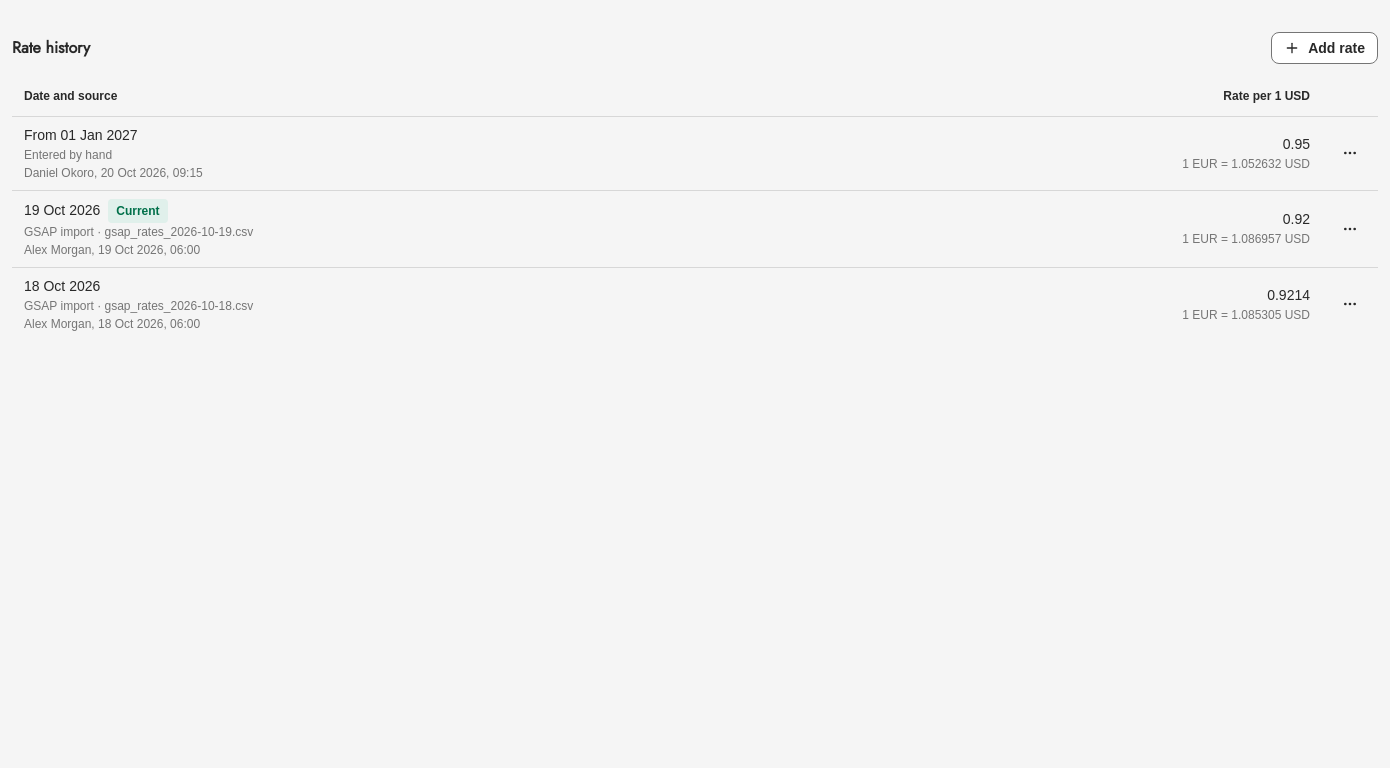
it: RateHistorySection (016 FR-001, FR-003) › moves a rate to the recycle bin with Undo
This screenshot has width=1390, height=768.
Check: the table is shown, box [12, 76, 1378, 340]
Step 1. Click the button named "Actions for the rate of 18 Oct 2026" → (1350, 304), box [1334, 288, 1366, 320]
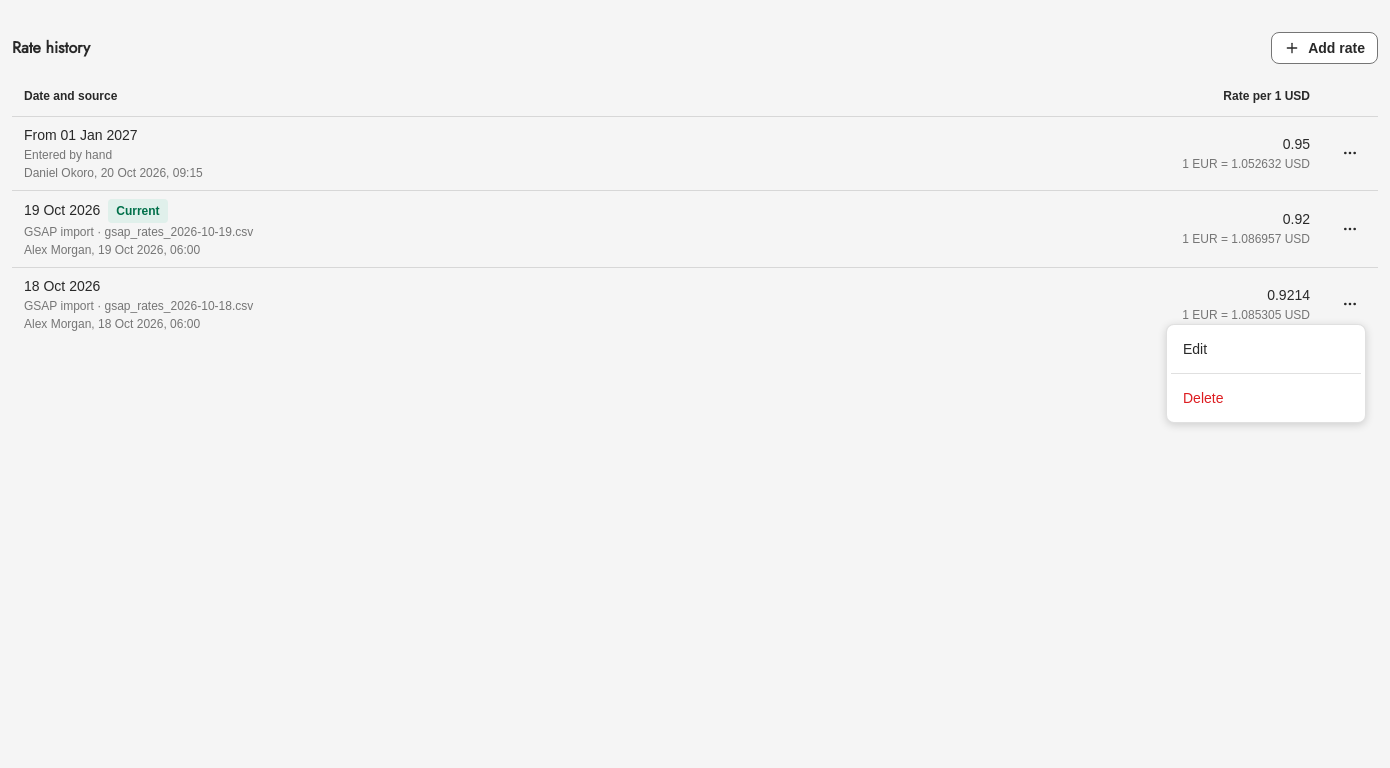
Step 2. Click the menu item "Delete" → (1203, 398), box [1183, 390, 1224, 406]
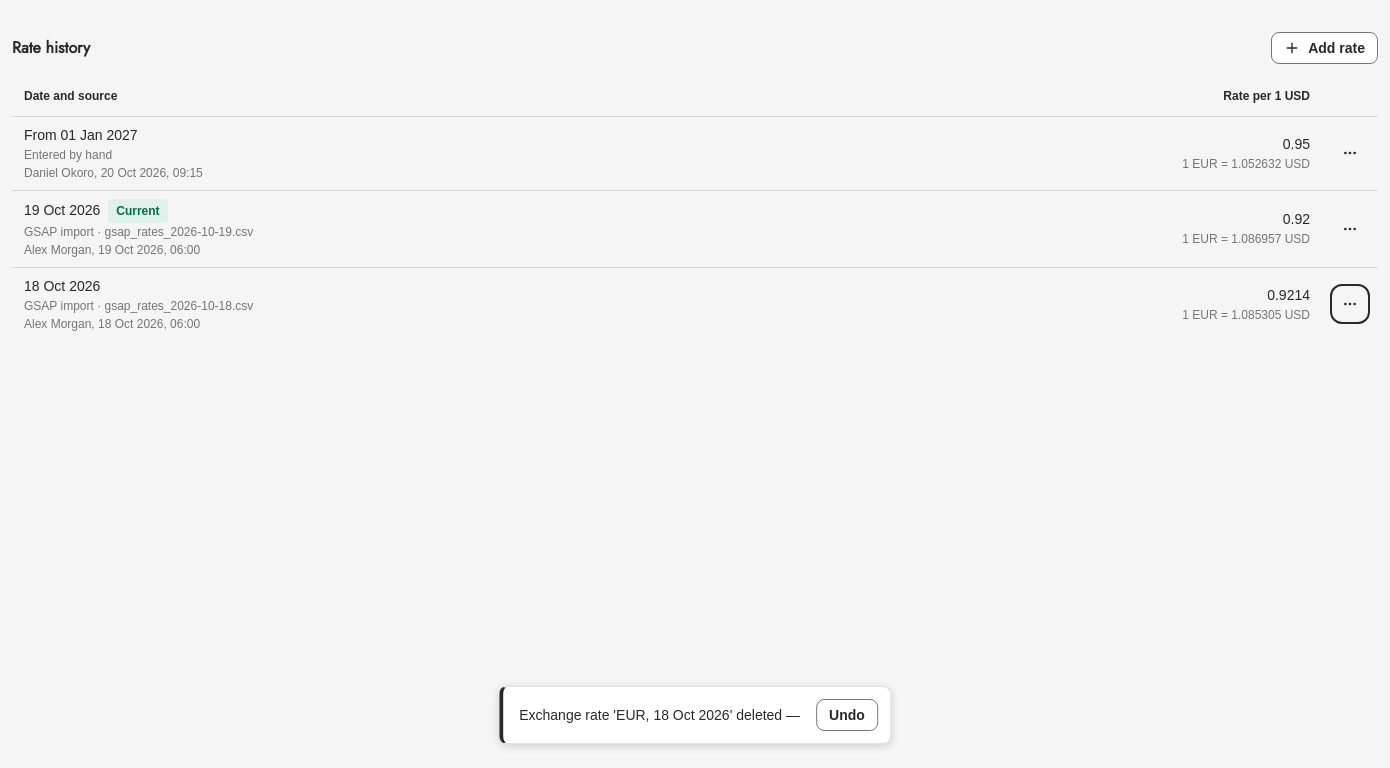
Check: the text "Exchange rate 'EUR, 18 Oct 2026' deleted" is shown, box [519, 706, 786, 722]
Check: the button "Undo" is shown, box [816, 699, 878, 731]
